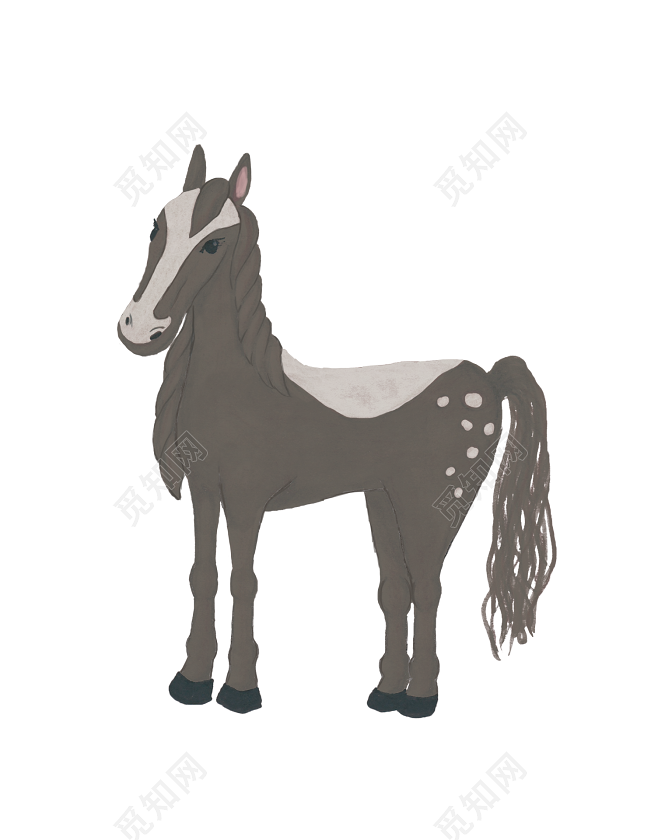background: (110, 139, 559, 724)
